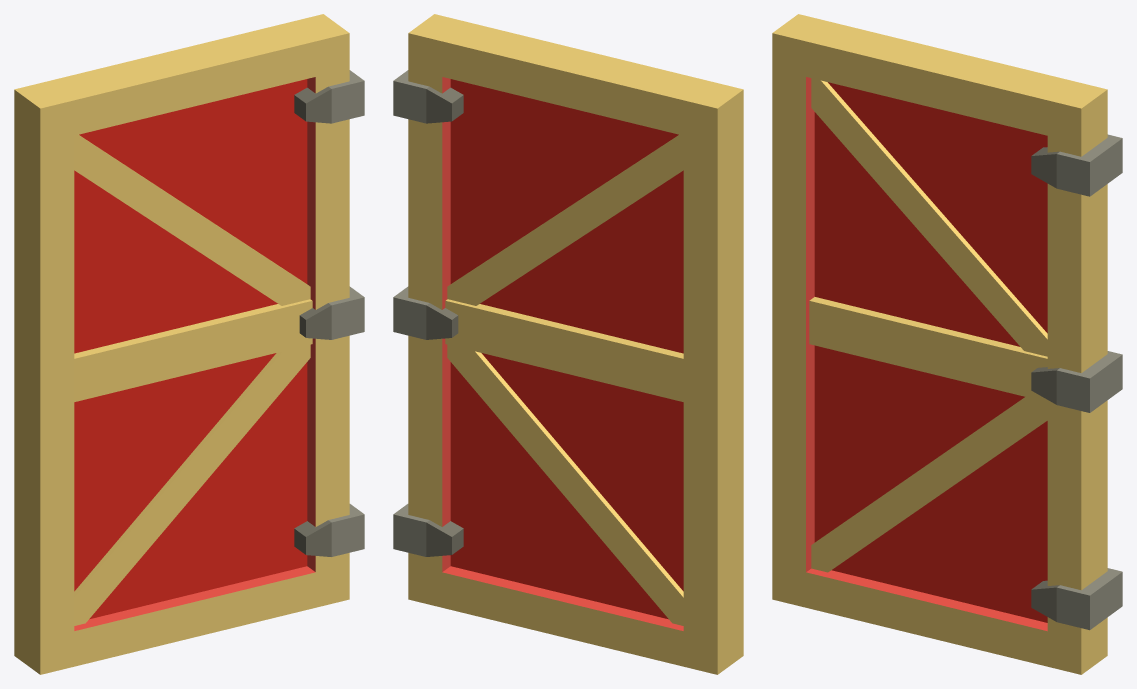
Rendered from OB_Door.fbx.
3 views of the same model, side by side, from view 1: azimuth 30°, elevation 25°; view 2: azimuth 150°, elevation 25°; view 3: azimuth 330°, elevation 25° (orthographic).
Visible parts, largest first — view 1: OB_Door; view 2: OB_Door; view 3: OB_Door.
Boxes of the visible parts, x1=… form: OB_Door: x1=14, y1=14, x2=364, y2=674; OB_Door: x1=393, y1=14, x2=743, y2=674; OB_Door: x1=772, y1=14, x2=1122, y2=674.
Bounding box in the file's own units: 415 × 700 × 73.45.
